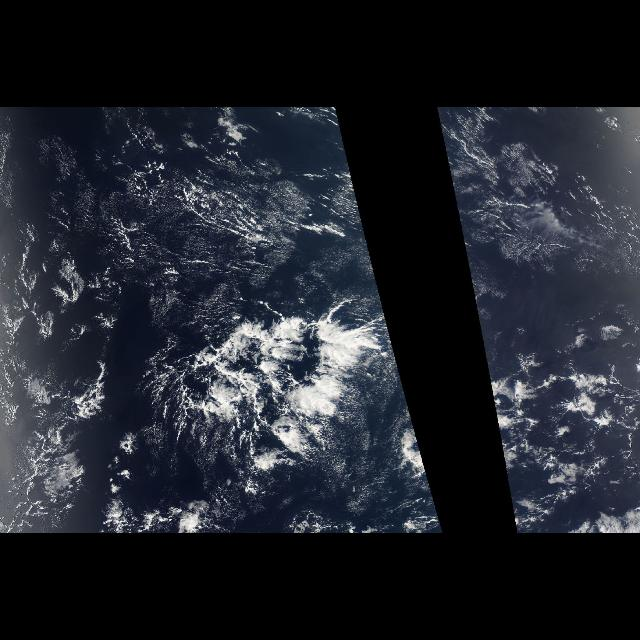Gravel: (107, 110, 383, 310)
Sugar: (10, 113, 334, 307), (458, 112, 630, 336)
